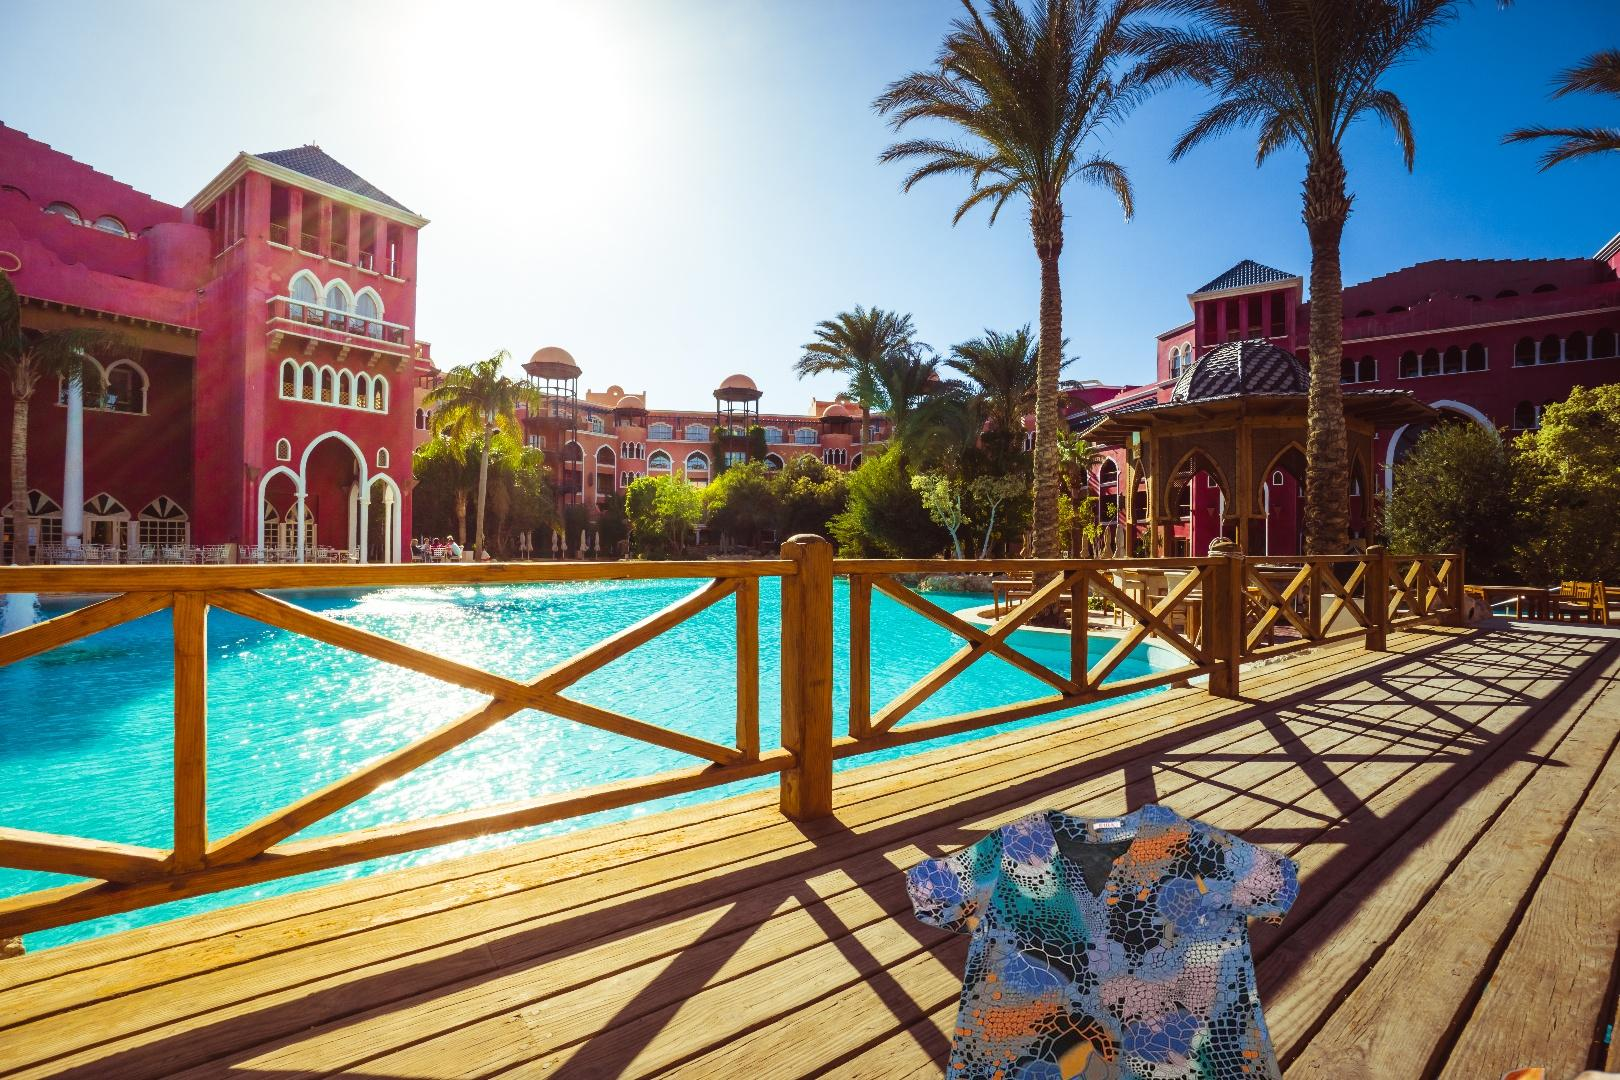biological: (458, 1061, 945, 1080), (1456, 1068, 1620, 1080)
clothes: (906, 799, 1304, 1080)
